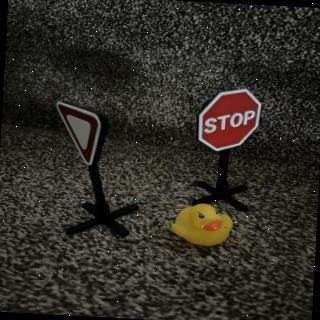duck_regular: (170, 204, 235, 250)
sign_stop: (198, 88, 263, 157)
sign_yield: (55, 103, 111, 169)
